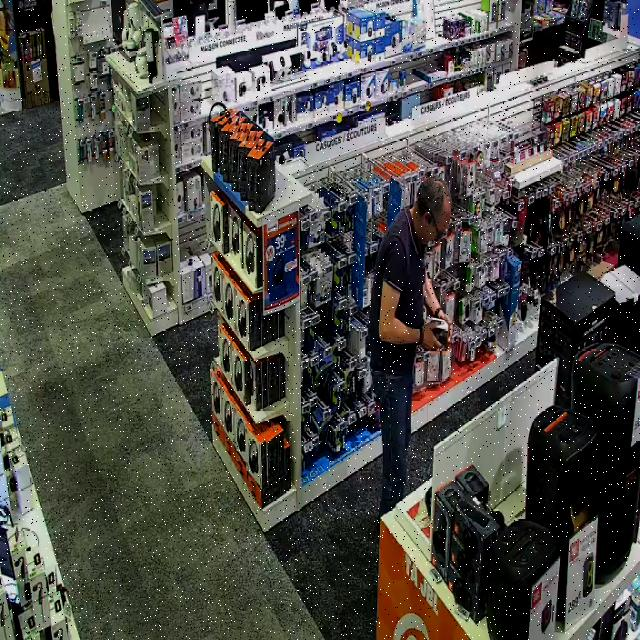article: (427, 317, 447, 347)
hands: (378, 282, 438, 346), (425, 278, 452, 337)
person: (369, 177, 451, 516)
